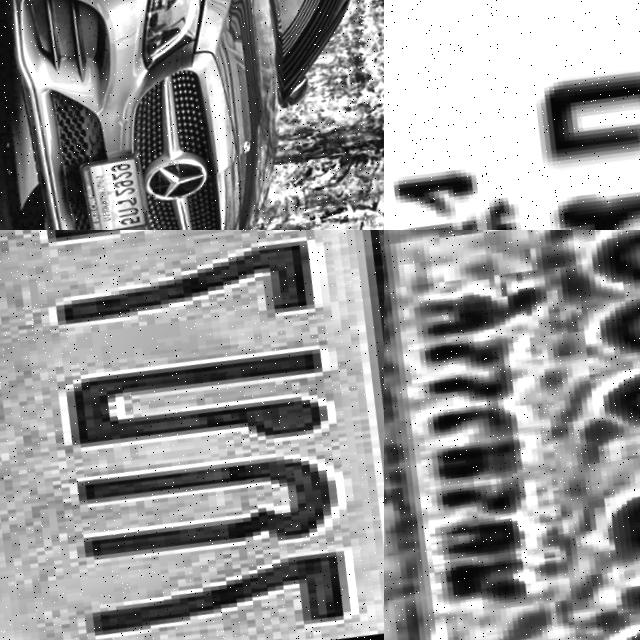license-plate: (0, 230, 384, 640), (384, 230, 640, 640), (384, 0, 640, 230), (80, 144, 163, 230)
